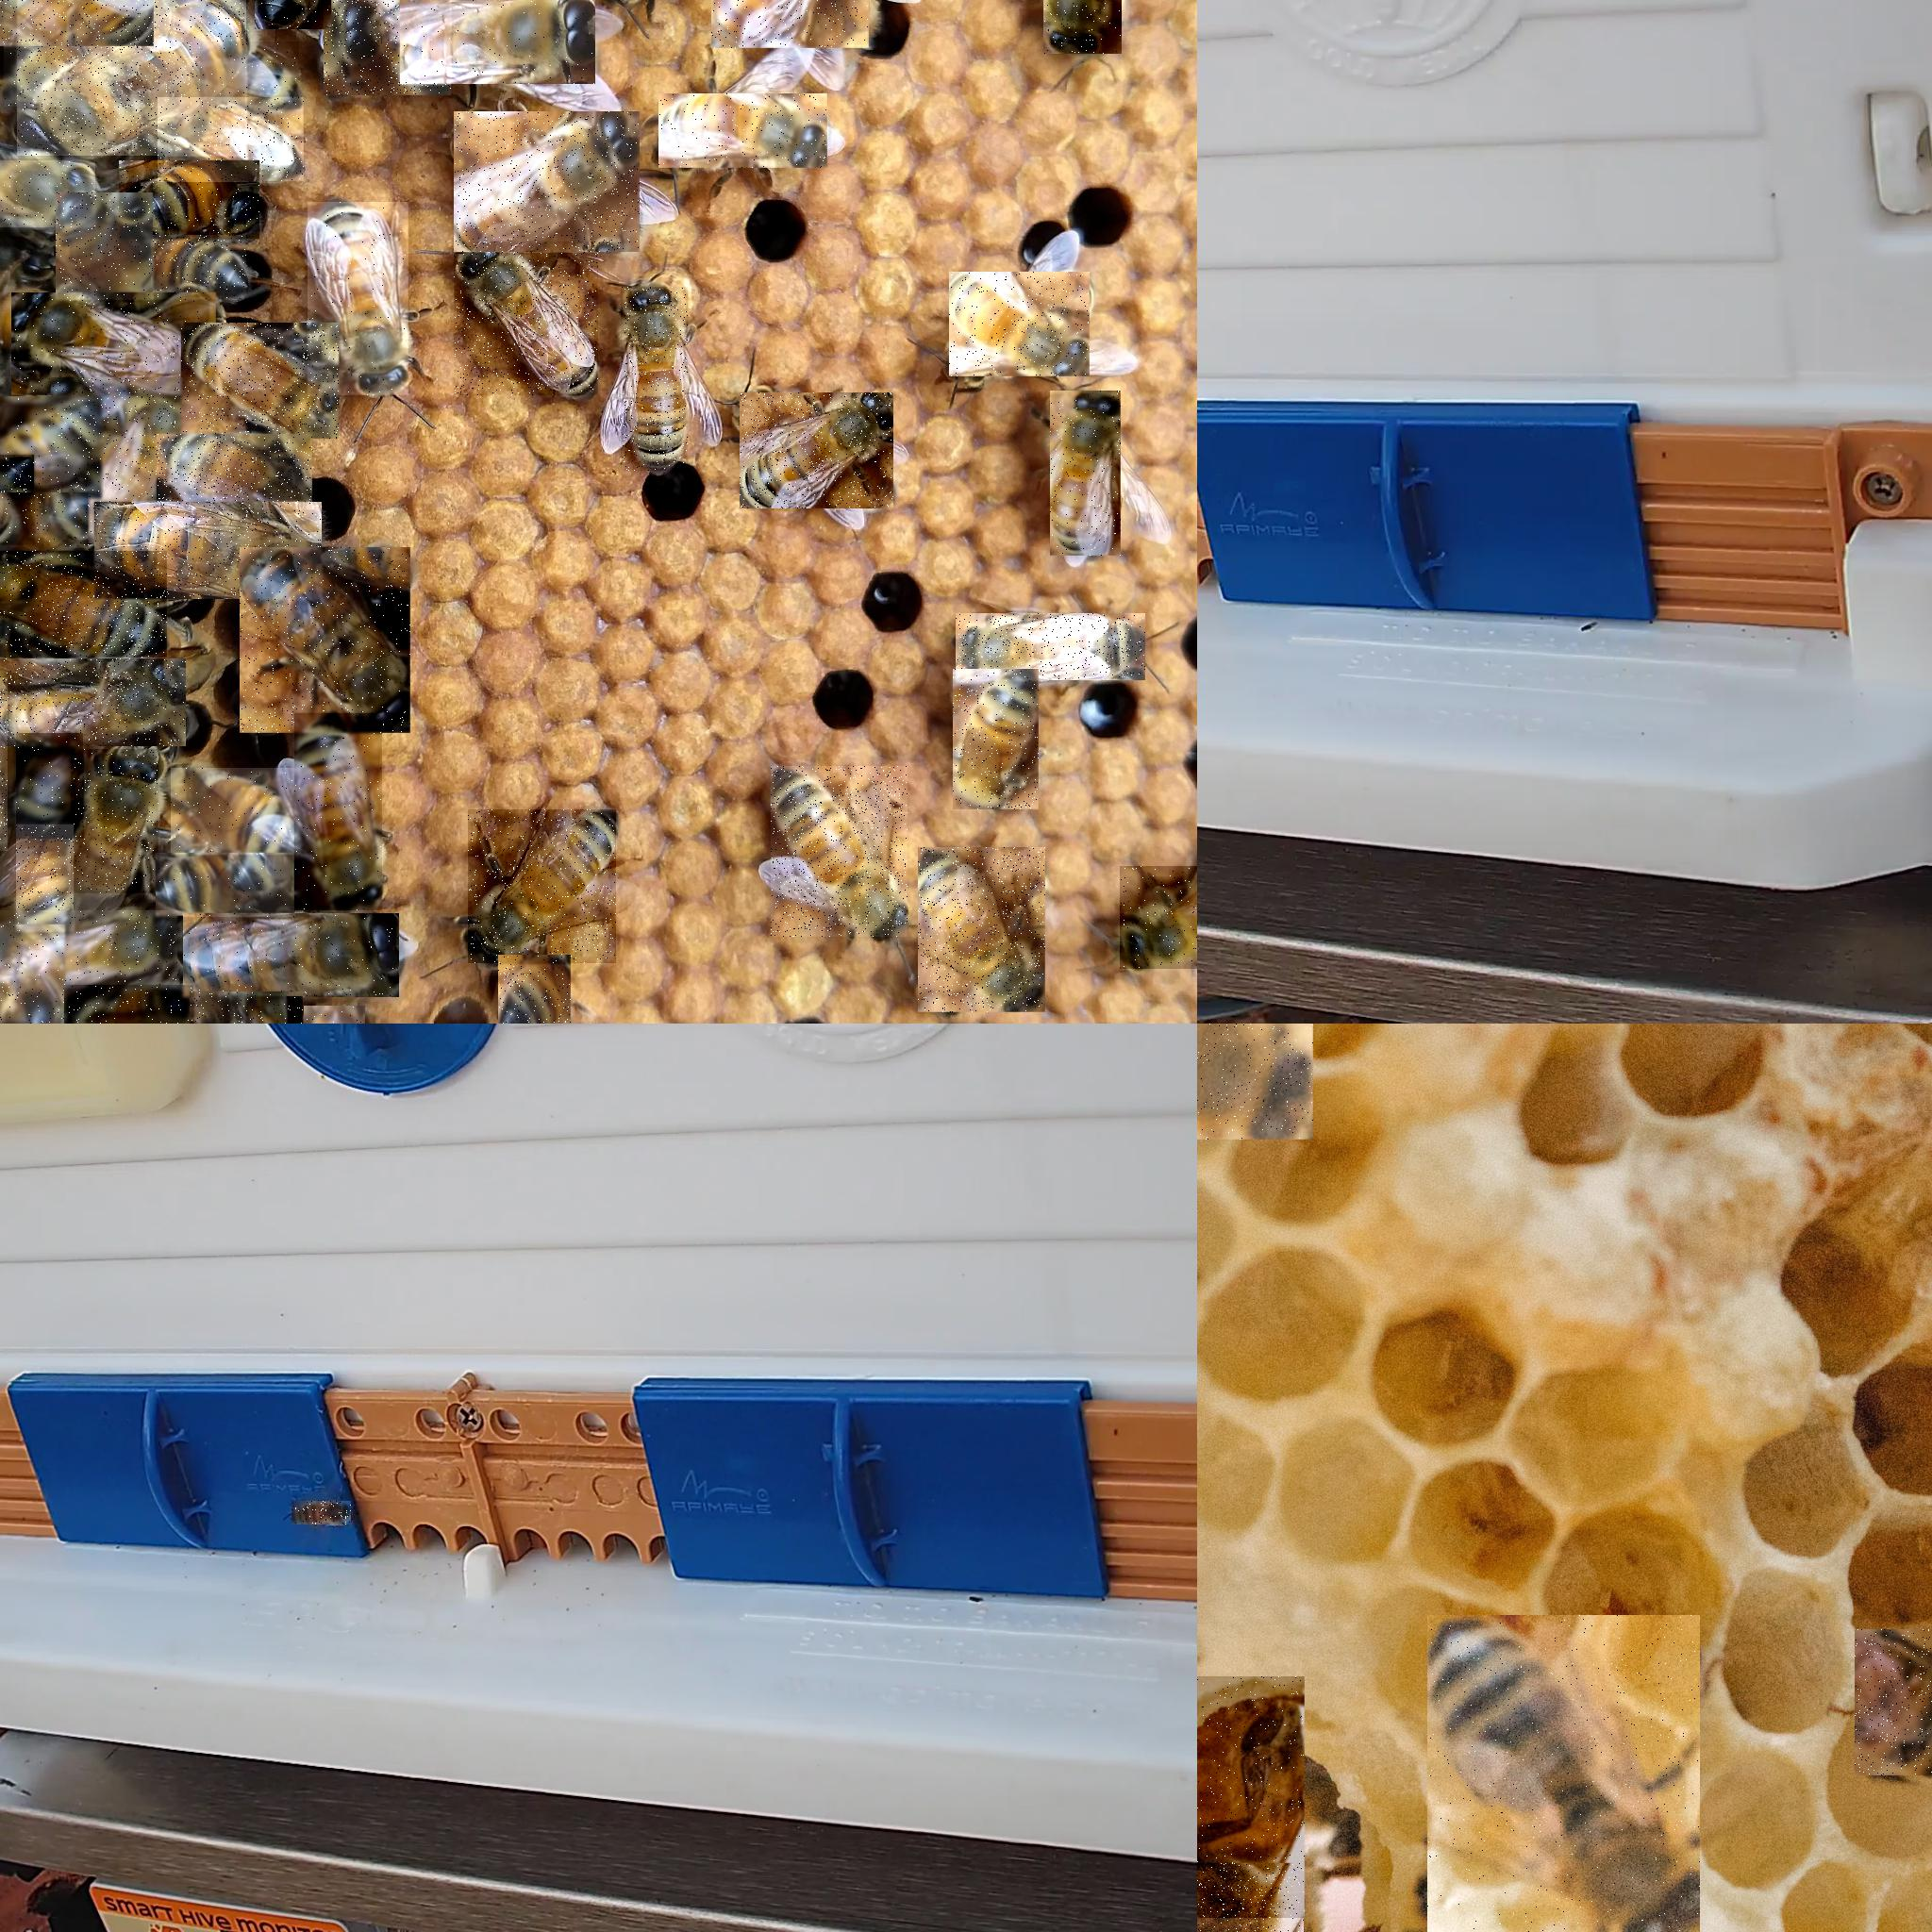bee: (1426, 1615, 1702, 1930), (1198, 1677, 1306, 1918), (51, 377, 196, 543), (771, 766, 908, 938), (467, 810, 617, 964), (453, 242, 600, 396), (11, 292, 218, 396), (918, 847, 1046, 1014), (308, 202, 409, 396), (180, 322, 340, 439), (4, 0, 175, 108), (0, 550, 168, 658), (740, 393, 893, 510), (294, 713, 384, 911), (0, 658, 188, 747), (948, 272, 1090, 377), (0, 911, 179, 989), (71, 748, 159, 895), (955, 614, 1146, 681), (658, 94, 828, 168), (324, 0, 453, 97), (621, 287, 688, 472), (157, 97, 304, 182), (954, 669, 1040, 810), (1049, 391, 1122, 557), (157, 433, 313, 510), (1854, 1628, 1930, 1778), (172, 768, 301, 855), (119, 161, 260, 239), (0, 396, 104, 501), (55, 193, 154, 301), (156, 853, 295, 916), (1120, 865, 1196, 970), (0, 0, 154, 48), (1198, 1863, 1306, 1930), (16, 732, 83, 839), (200, 41, 301, 110), (0, 492, 90, 566), (0, 924, 67, 1023), (0, 161, 96, 230), (16, 824, 74, 932), (150, 235, 248, 299), (497, 955, 573, 1023), (64, 985, 195, 1023), (1044, 0, 1123, 55), (0, 455, 35, 547), (189, 991, 288, 1023), (253, 0, 333, 30), (246, 996, 304, 1023), (292, 1500, 352, 1525)
drone: (16, 0, 248, 157), (239, 547, 410, 734), (453, 111, 640, 253), (94, 502, 322, 600), (182, 913, 400, 998), (400, 0, 598, 87), (711, 0, 870, 50)
